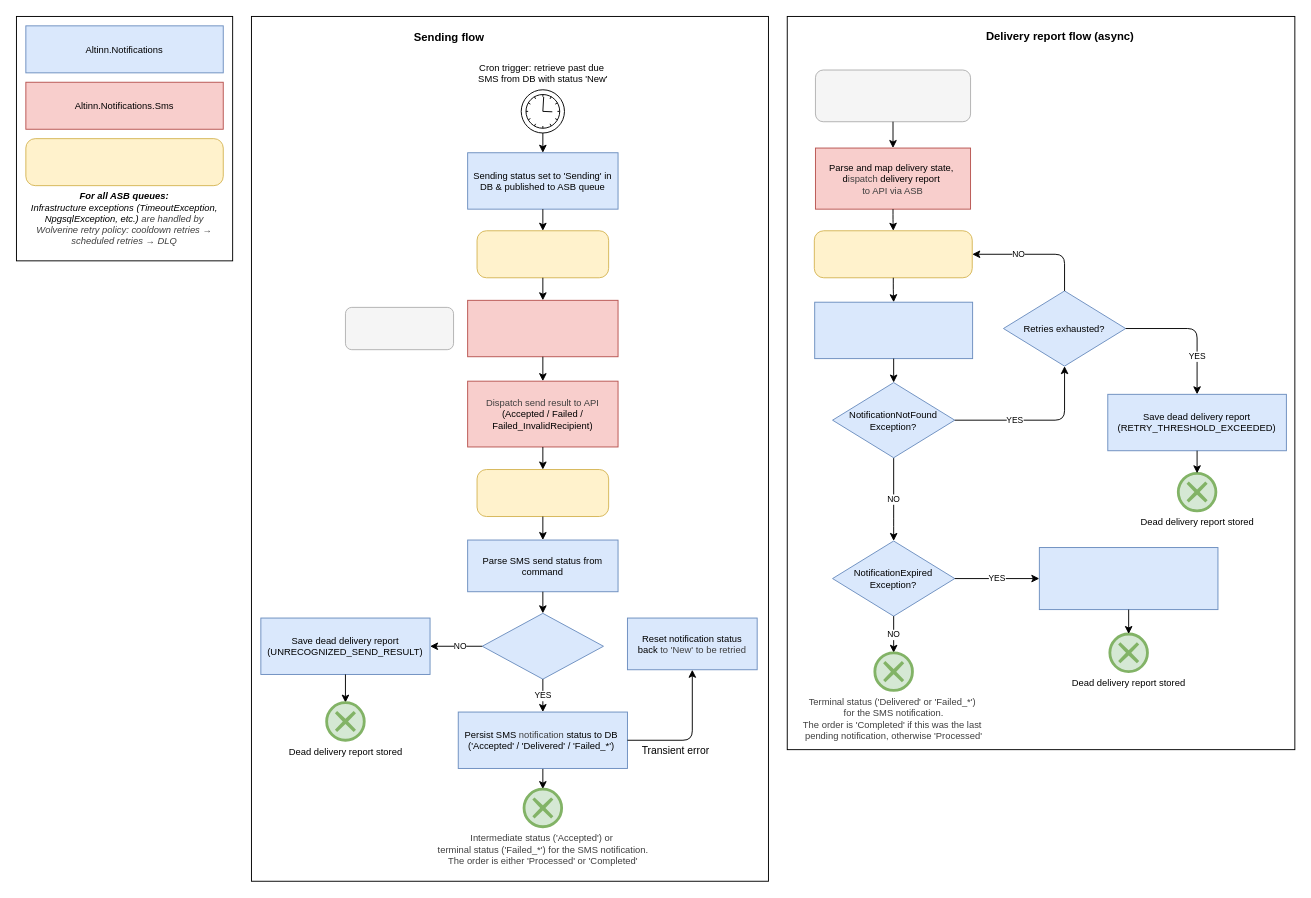
The diagram is 1311 pixels wide and 898 high, and some of its shapes have lost their labels. The centre of each missing label's shape, as x and y in pixels:
"altinn.notifications. sms.deliveryreports" belongs at pixel 892 254.
"altinn.notifications. sms.send" belongs at pixel 542 254.
"altinn.notifications. sms.send.result" belongs at pixel 542 493.
"Attempt to parse and persist SMS delivery status to DB" belongs at pixel 893 330.
"Azure Service Bus queue" belongs at pixel 124 162.
"LINK Mobility sends XML delivery report callback to webhook: POST /reports" belongs at pixel 893 95.
"Result received synchronously — no polling loop" belongs at pixel 399 328.
"Save dead delivery report (NOTIFICATION_EXPIRED)" belongs at pixel 1128 578.
"Send SMS via Link Mobility gateway" belongs at pixel 542 328.
"Valid SmsSendResult?" belongs at pixel 542 645.
